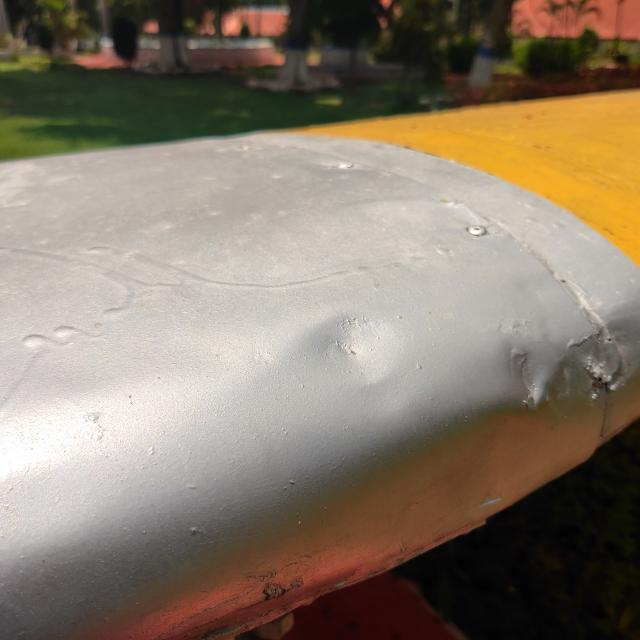dent: (284, 284, 421, 416), (482, 322, 582, 428)
